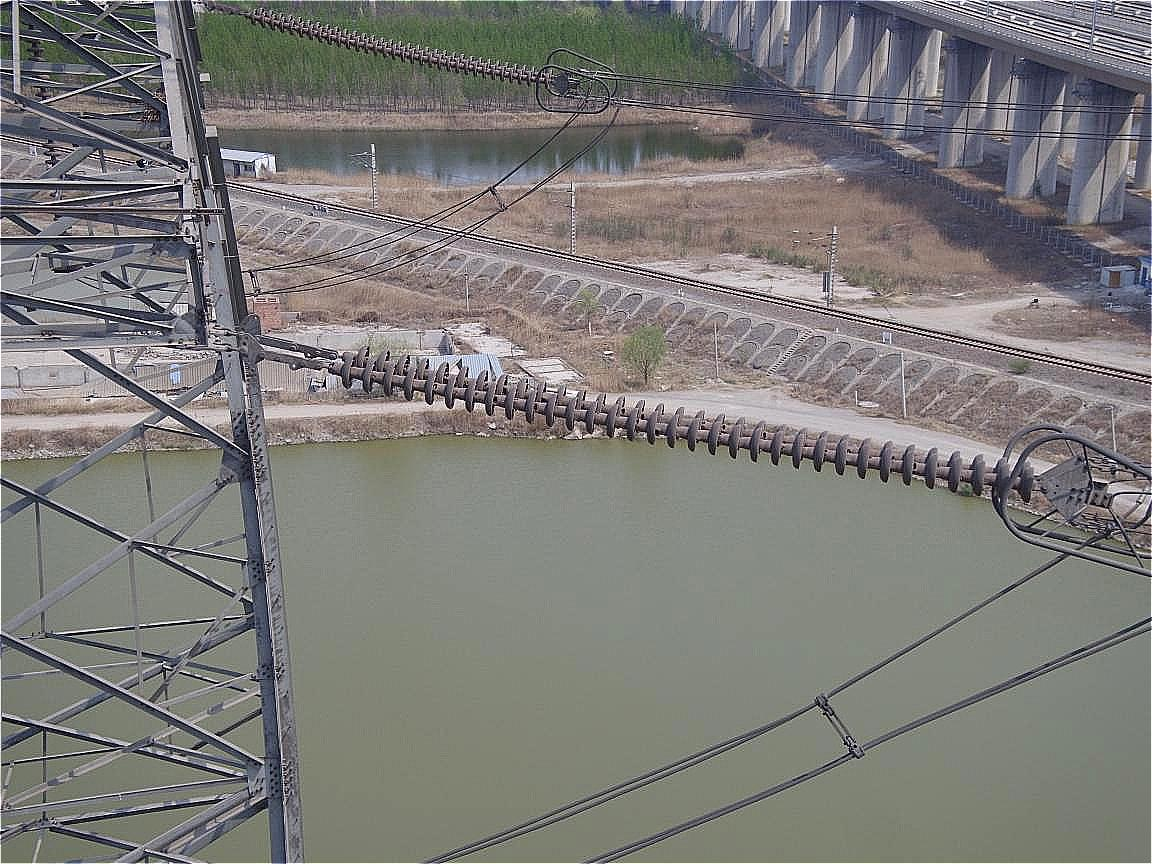insultor1: (307, 336, 1068, 520), (225, 1, 559, 99)
